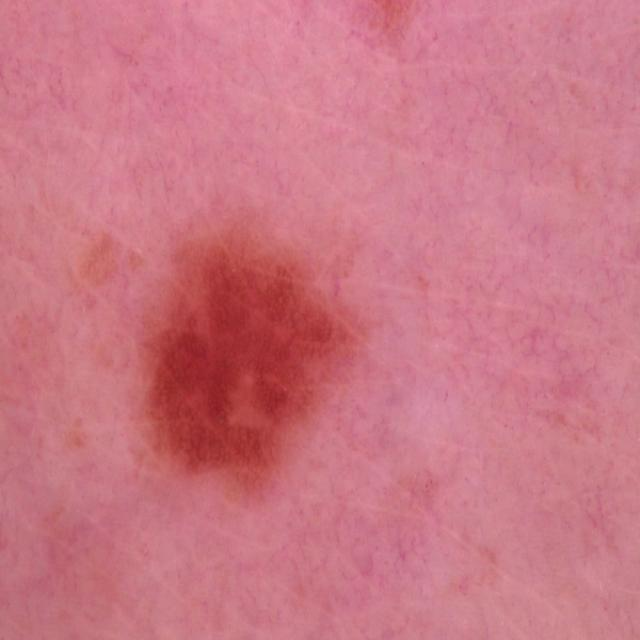NV: (138, 215, 364, 501)
